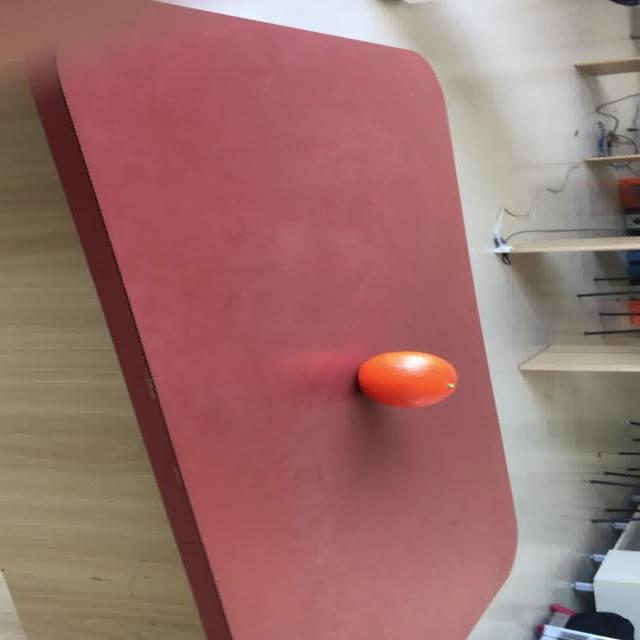orange: (356, 350, 457, 408)
